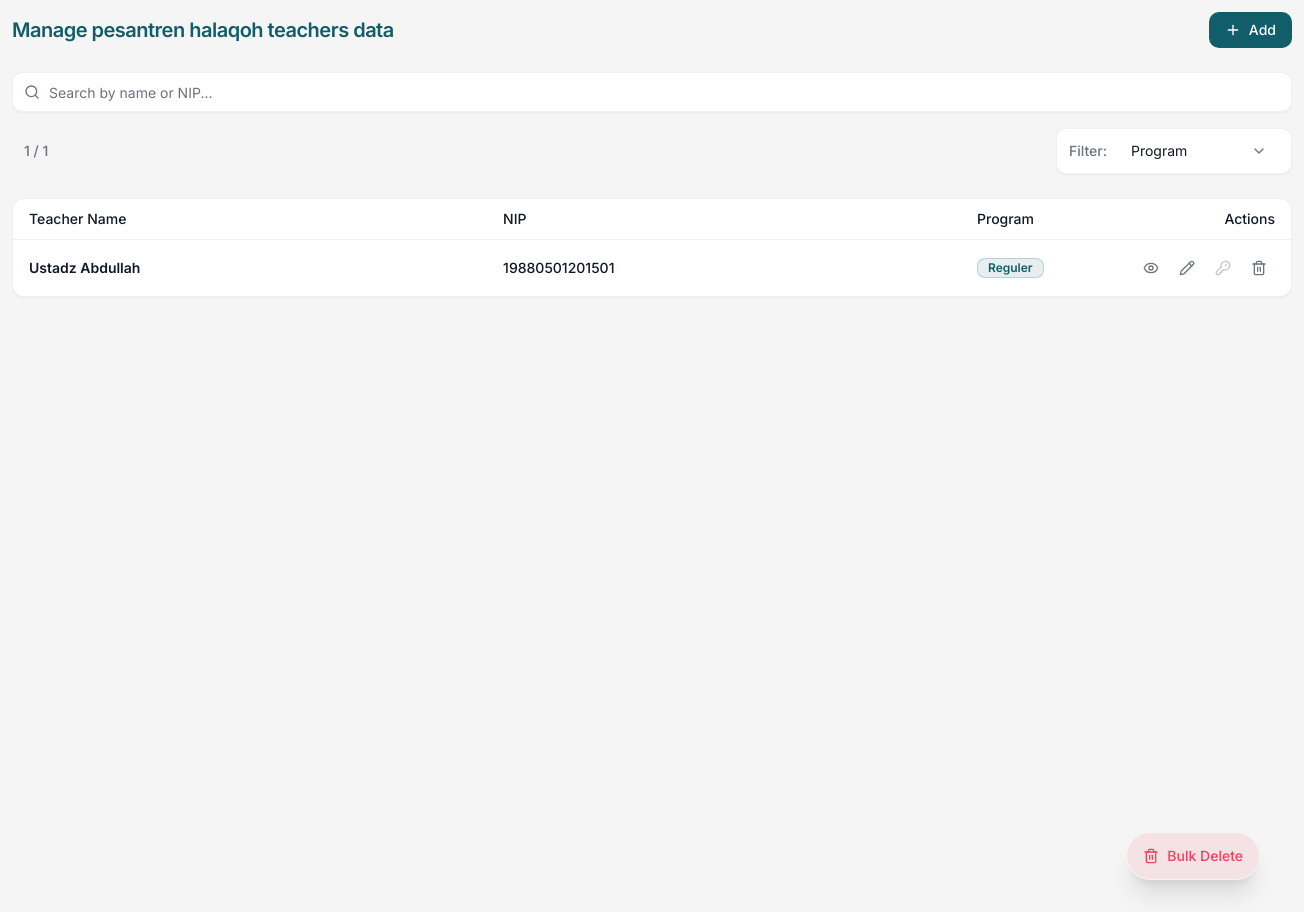
GuruPage Integration Test › should toggle selection mode when FAB is clicked and allow cancelling
The image size is (1304, 912).
// Click FAB trigger to enter selection mode
Click the button "Bulk Delete" at point(1193, 856), box [1126,832,1260,880]
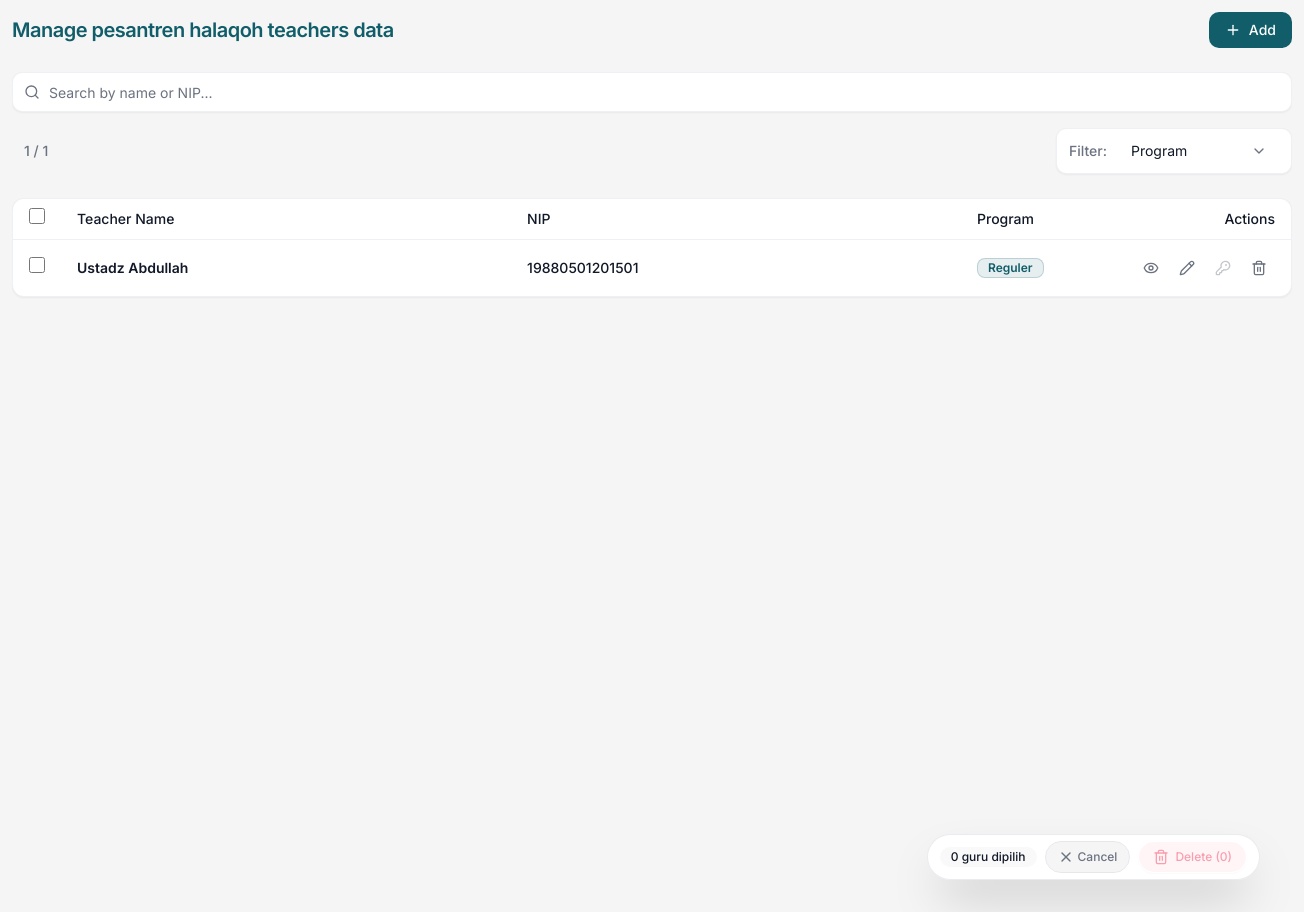
Check: the checkbox named "Pilih Semua Guru" is shown, box [29,208,45,224]
// Select teacher
Click the checkbox named "Pilih guru Ustadz Abdullah" at point(37, 265), box [29,257,45,273]
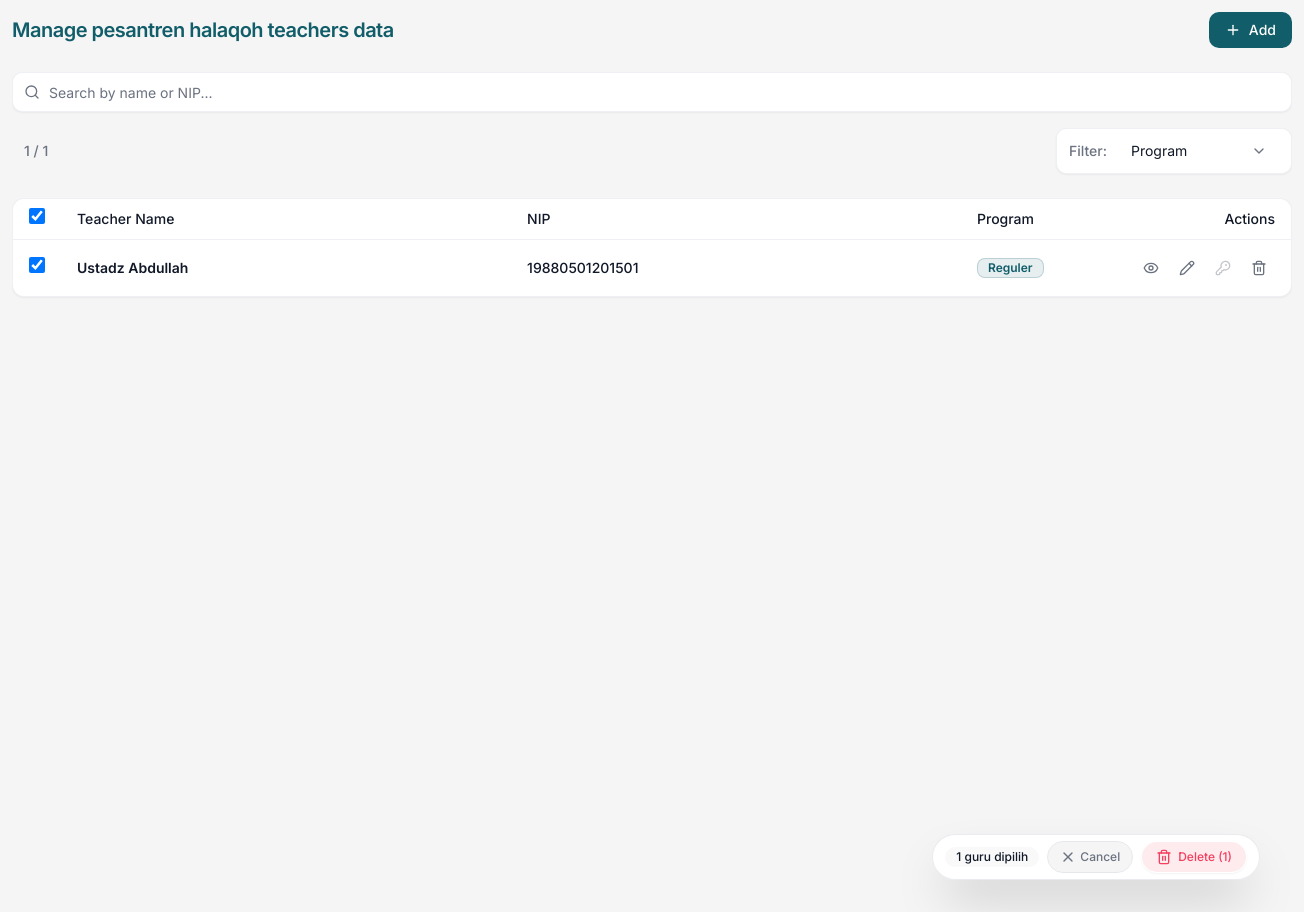
Check: the text "1 guru dipilih" is shown, box [945,847,1039,867]
// Click Cancel FAB button
Click the button "Cancel" at point(1090, 857), box [1047,841,1133,873]
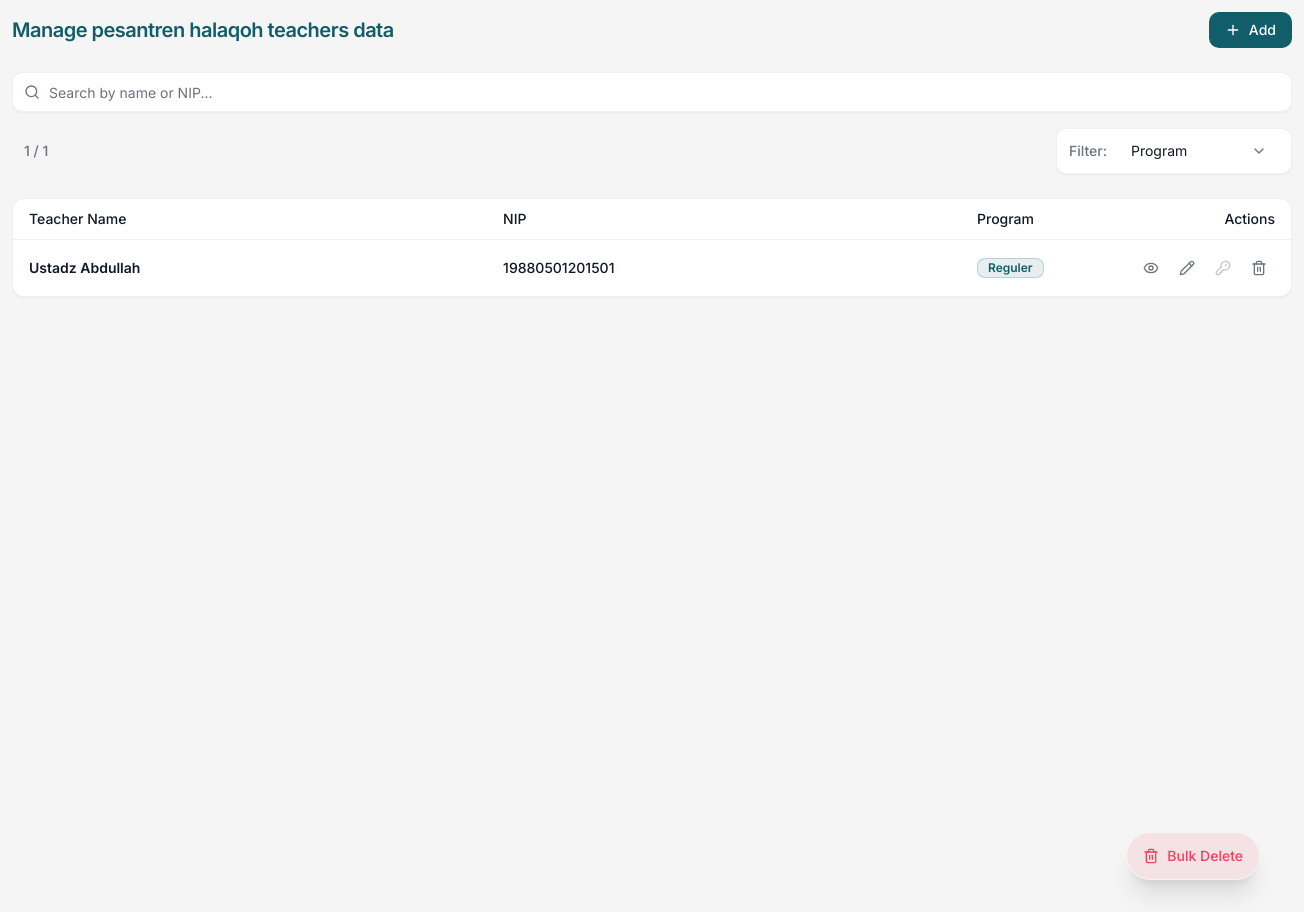
Check: the checkbox is gone
